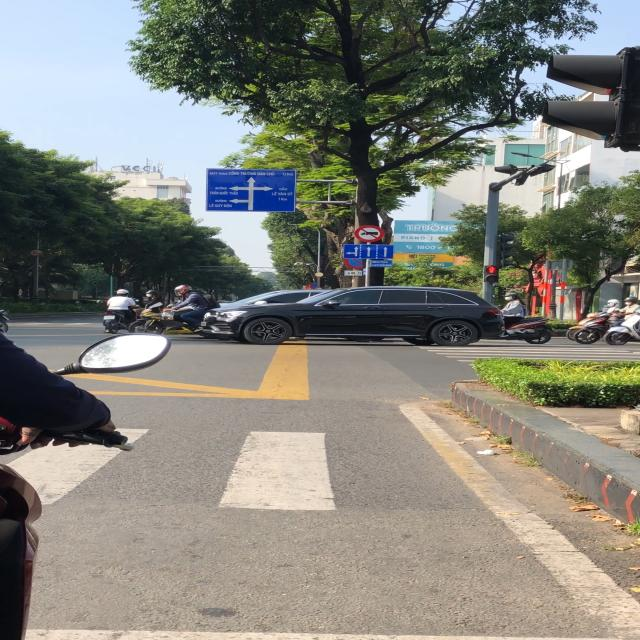Bien bao cam xe so-mi ro-mooc: (352, 224, 389, 244)
